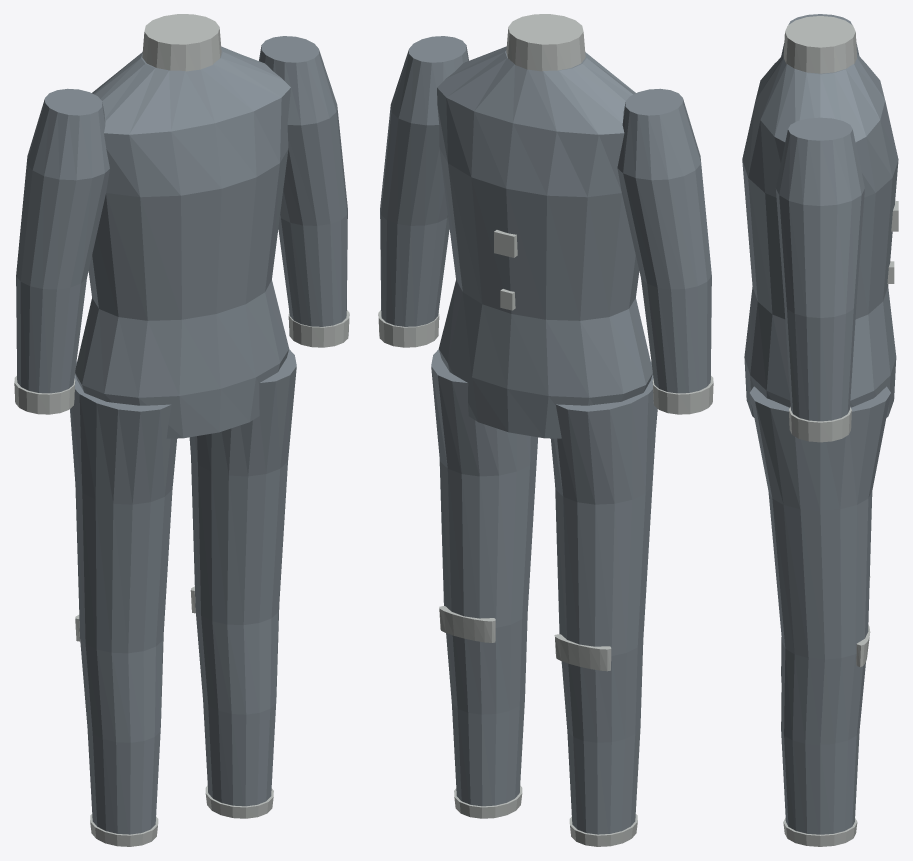
The picture shows the model from 3 angles, left to right: view 1: azimuth 30°, elevation 25°; view 2: azimuth 150°, elevation 25°; view 3: azimuth 270°, elevation 25°; orthographic projection.
Parts seen in each view (by area): view 1: CHAR-063; view 2: CHAR-063; view 3: CHAR-063.
Boxes of the visible parts, x1=… form: CHAR-063: x1=14, y1=14, x2=349, y2=846; CHAR-063: x1=378, y1=14, x2=713, y2=846; CHAR-063: x1=742, y1=14, x2=898, y2=846.
Size of the model in its own units: 0.4019 by 0.9262 by 0.1697.
2 materials, 2 textured.
